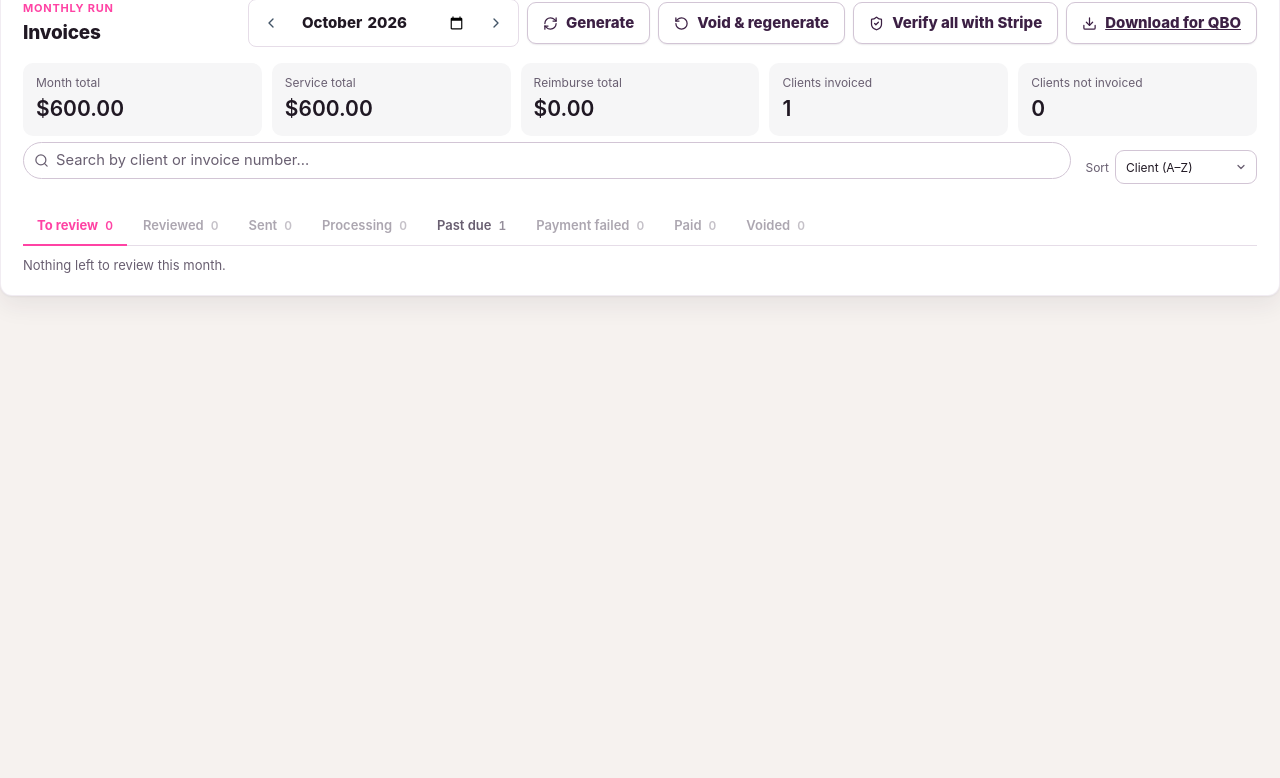
Test: the Payment link button › is offered on a past-due invoice, which is still a sent one
Click the tab "Past due 1" at (472, 227), box [423,207,520,246]
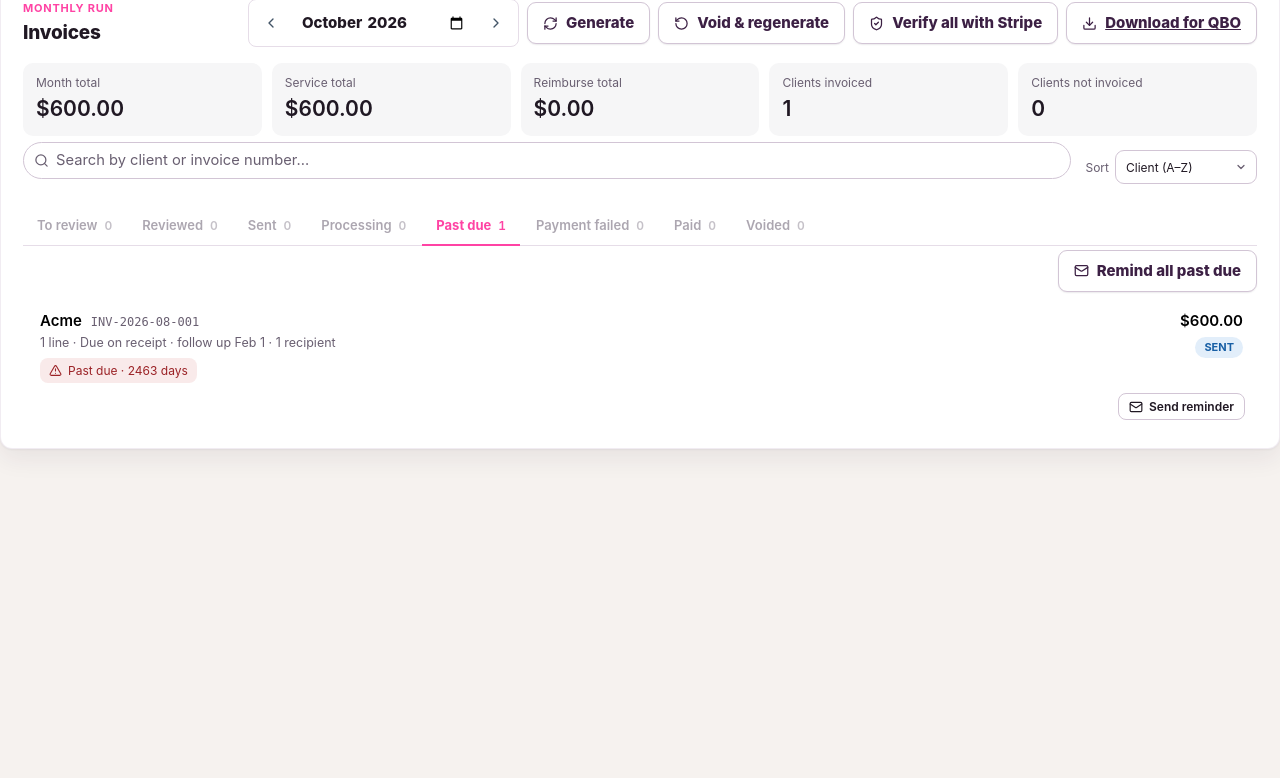
Click the text "INV-2026-08-001" at (145, 322), box [91,314,199,331]
(page scrolled)
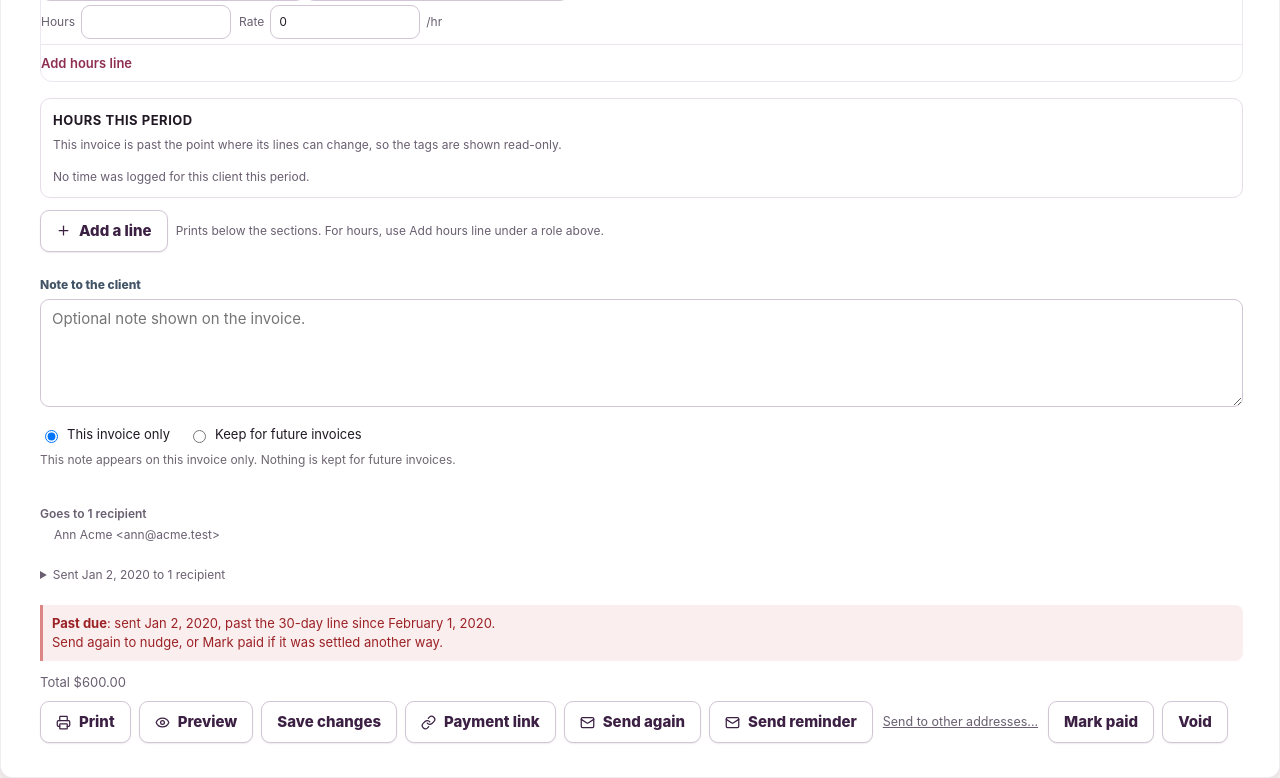
Now the button "Print" is shown, box [40,702,131,743]
Now the button "Payment link" is enabled, box [405,702,556,743]
